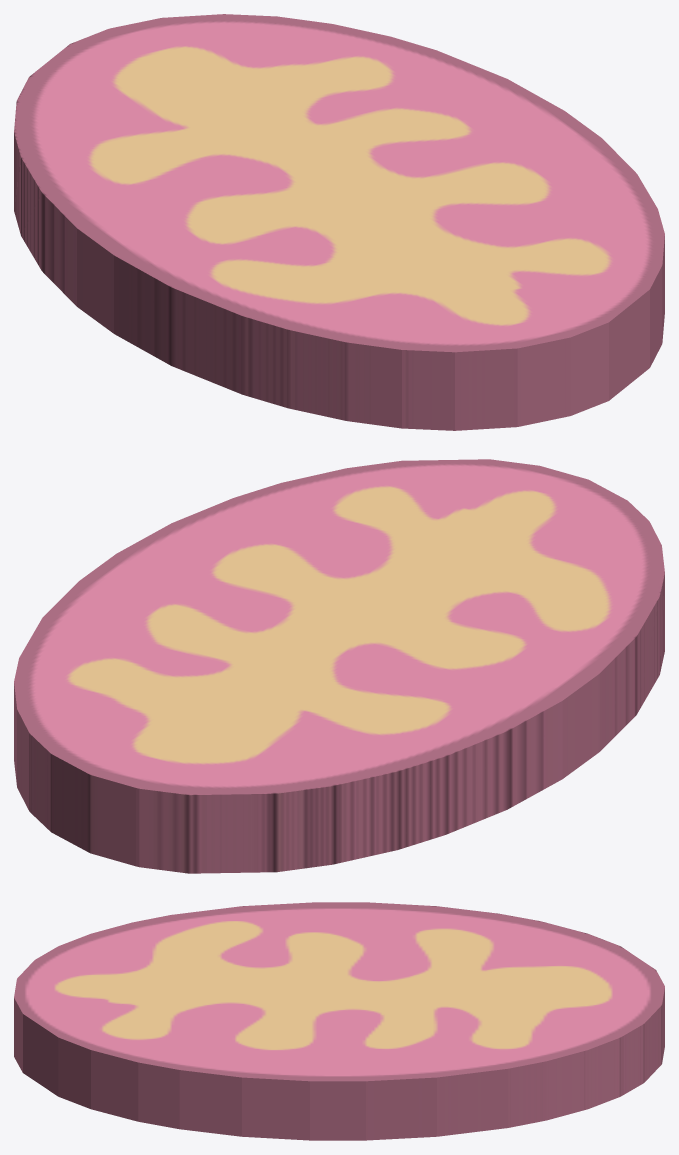
File: mitochondrion.gltf
The picture shows the model from 3 angles, top to bottom: view 1: azimuth 30°, elevation 25°; view 2: azimuth 150°, elevation 25°; view 3: azimuth 270°, elevation 25°; orthographic projection. The views are drawn at different scales.
Size of the model in its own units: 0.0363 by 0.00561 by 0.0559.
1 material, 1 textured.
